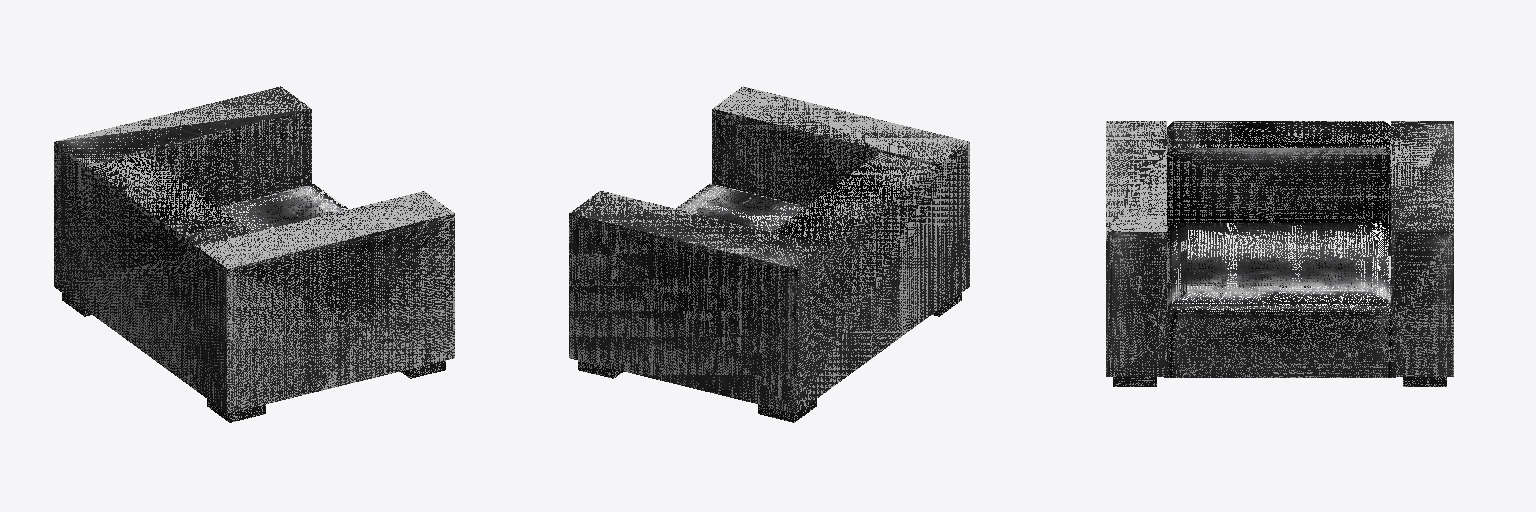
3 renders of one model, left to right at view 1: azimuth 30°, elevation 25°; view 2: azimuth 150°, elevation 25°; view 3: azimuth 270°, elevation 25°, orthographic.
Visible parts, largest first — view 1: mesh3_mesh3-geometry, mesh1_mesh1-geometry; view 2: mesh3_mesh3-geometry, mesh1_mesh1-geometry; view 3: mesh3_mesh3-geometry, mesh1_mesh1-geometry.
Part boxes in pixels (x1,y1,x2,y2): mesh3_mesh3-geometry: (54, 86, 454, 422); mesh1_mesh1-geometry: (219, 184, 348, 232); mesh3_mesh3-geometry: (569, 86, 969, 422); mesh1_mesh1-geometry: (676, 183, 804, 232); mesh3_mesh3-geometry: (1106, 121, 1453, 386); mesh1_mesh1-geometry: (1167, 223, 1390, 311).
Bounding box in the file's own units: 0.5655 × 0.3694 × 0.7374.
Materials: 4 (2 with a texture image).